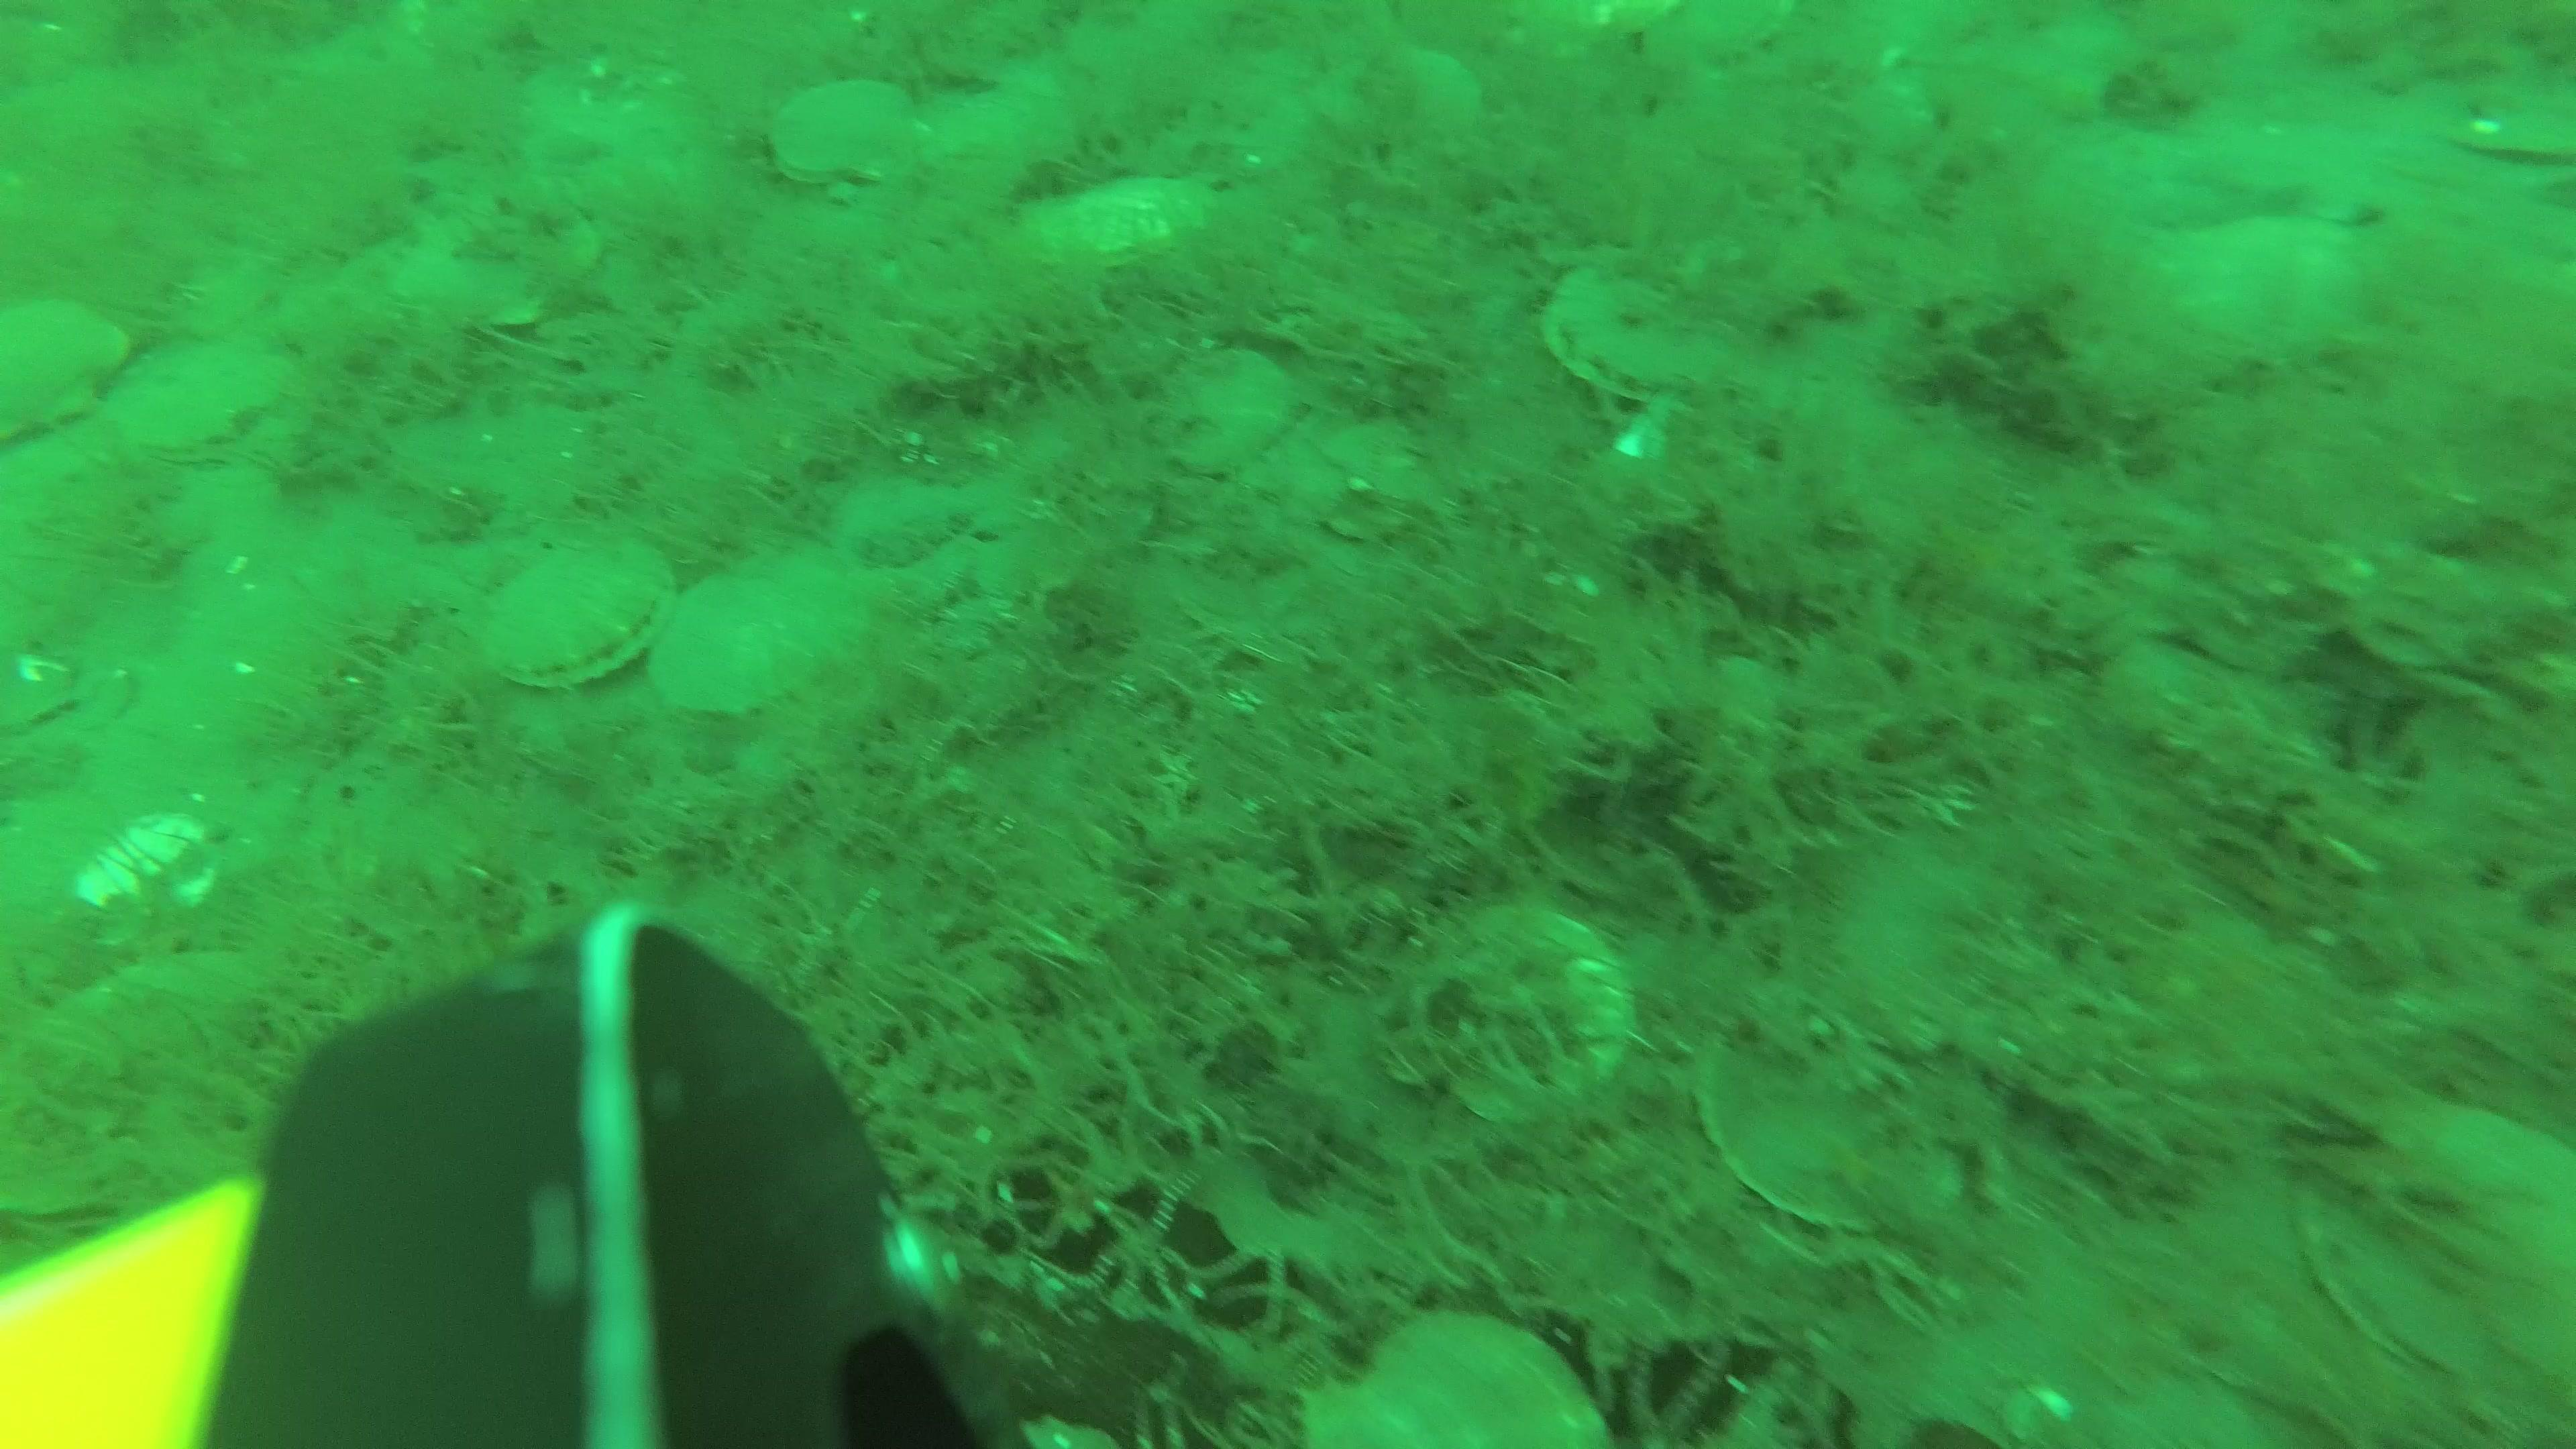scallop: (2296, 1097, 2576, 1373), (1688, 991, 1951, 1221), (1292, 1307, 1601, 1449), (1412, 904, 1615, 1093), (633, 557, 872, 718), (464, 536, 679, 686), (1543, 271, 1755, 403), (386, 207, 607, 333), (1016, 182, 1219, 280), (0, 301, 126, 439), (780, 80, 934, 189), (1152, 341, 1286, 460), (81, 817, 214, 922), (1631, 0, 1790, 78)
